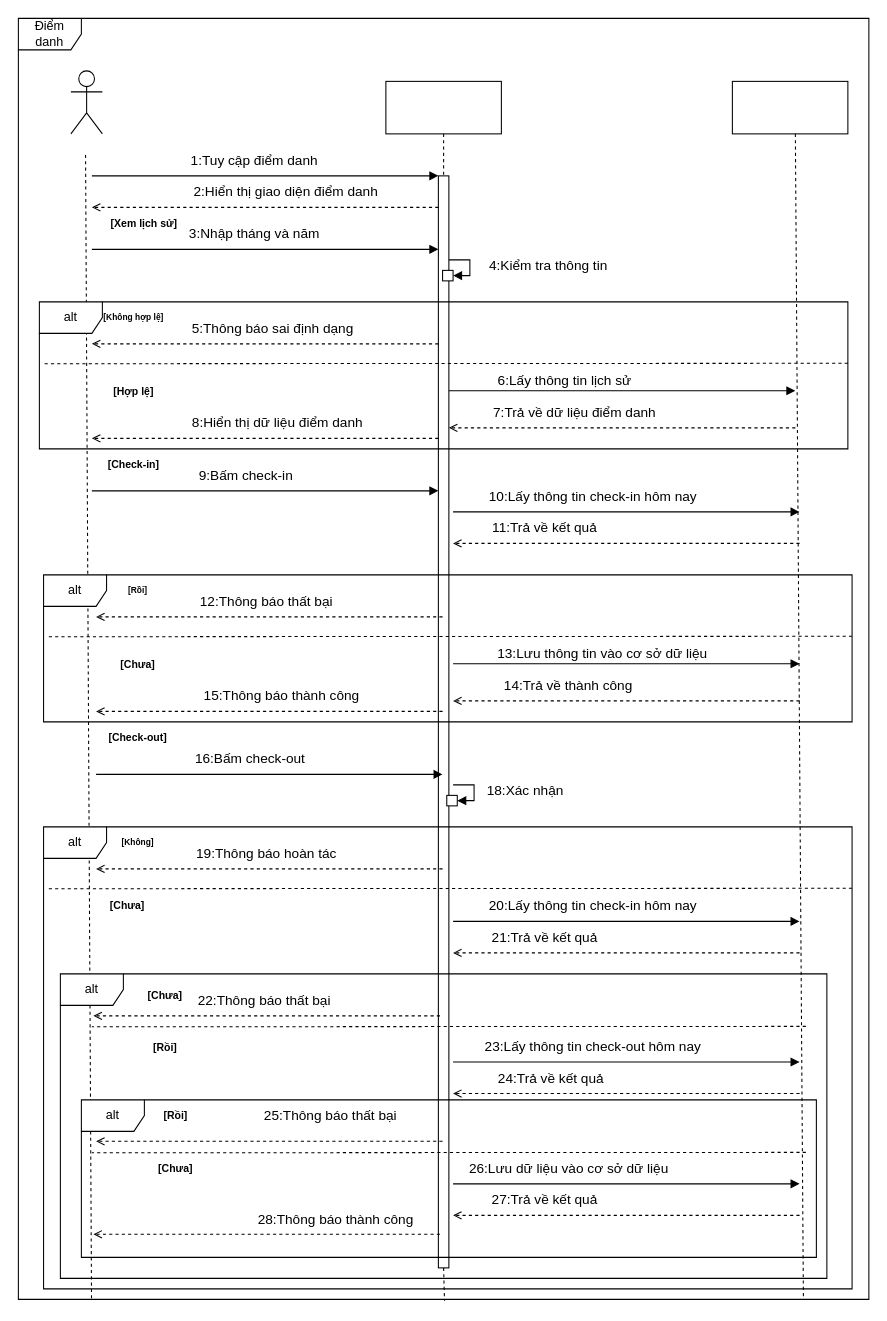
This 887x1321 diagram has some shape labels left out. Each missing label, with the centre of its shape:
"Cơ sở dữ liệu điểm danh" goes at point 789,107.
"Employee" goes at point 86,102.
"Hệ thống" goes at point 443,107.
